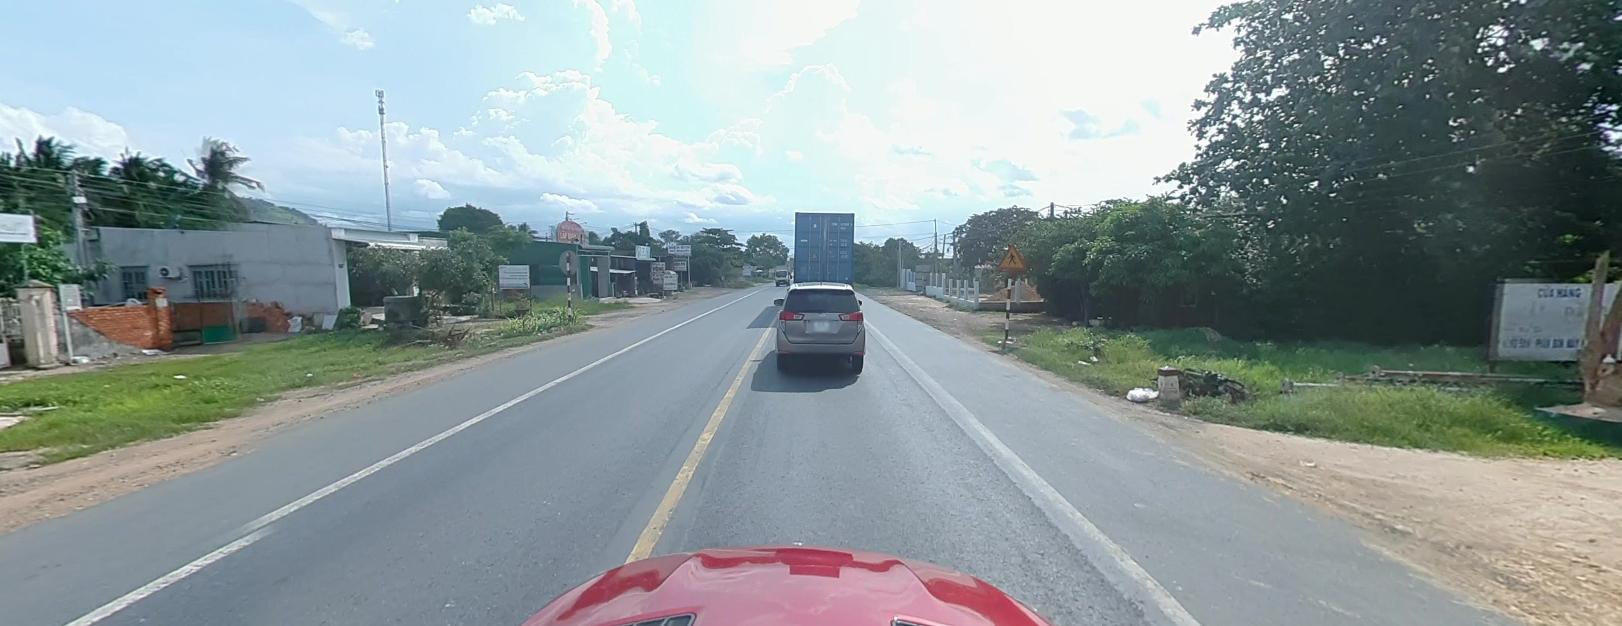Nguy hiem: (996, 242, 1028, 269)
